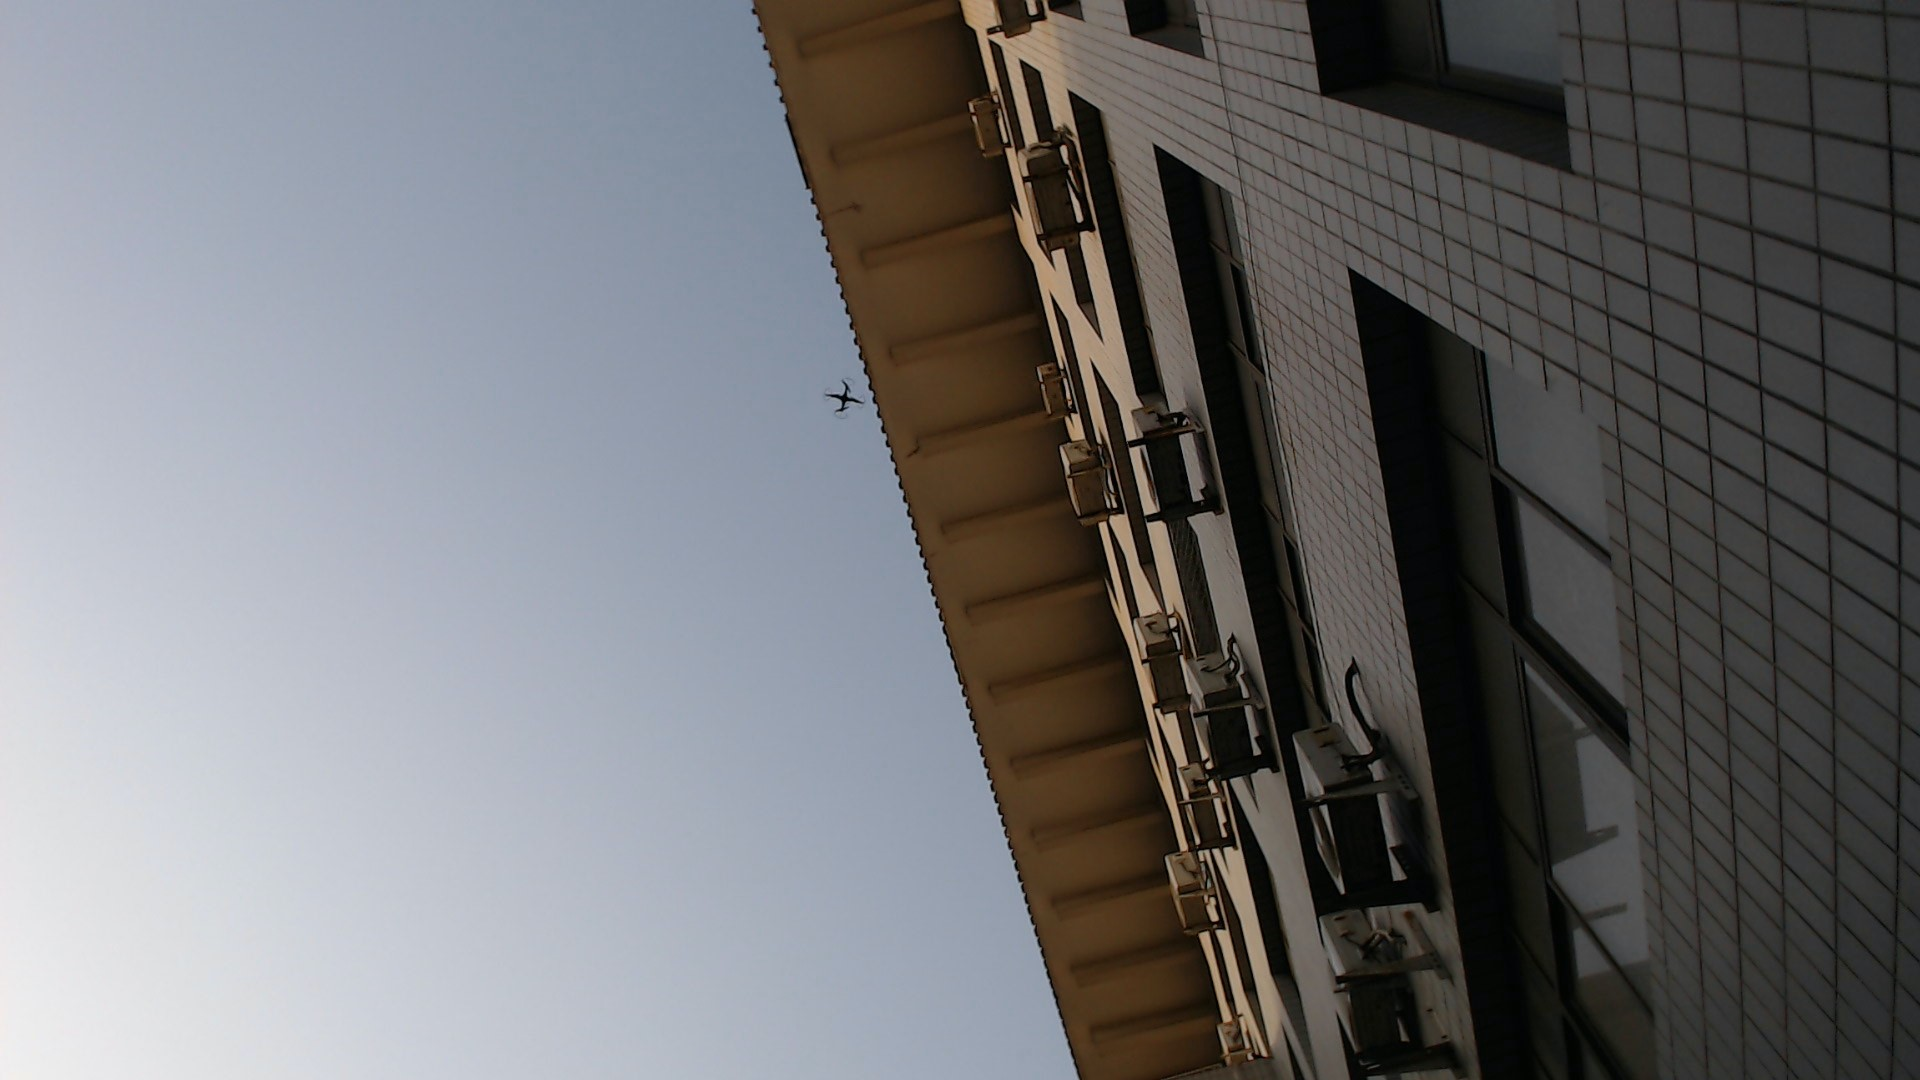drone: (815, 375, 870, 423)
